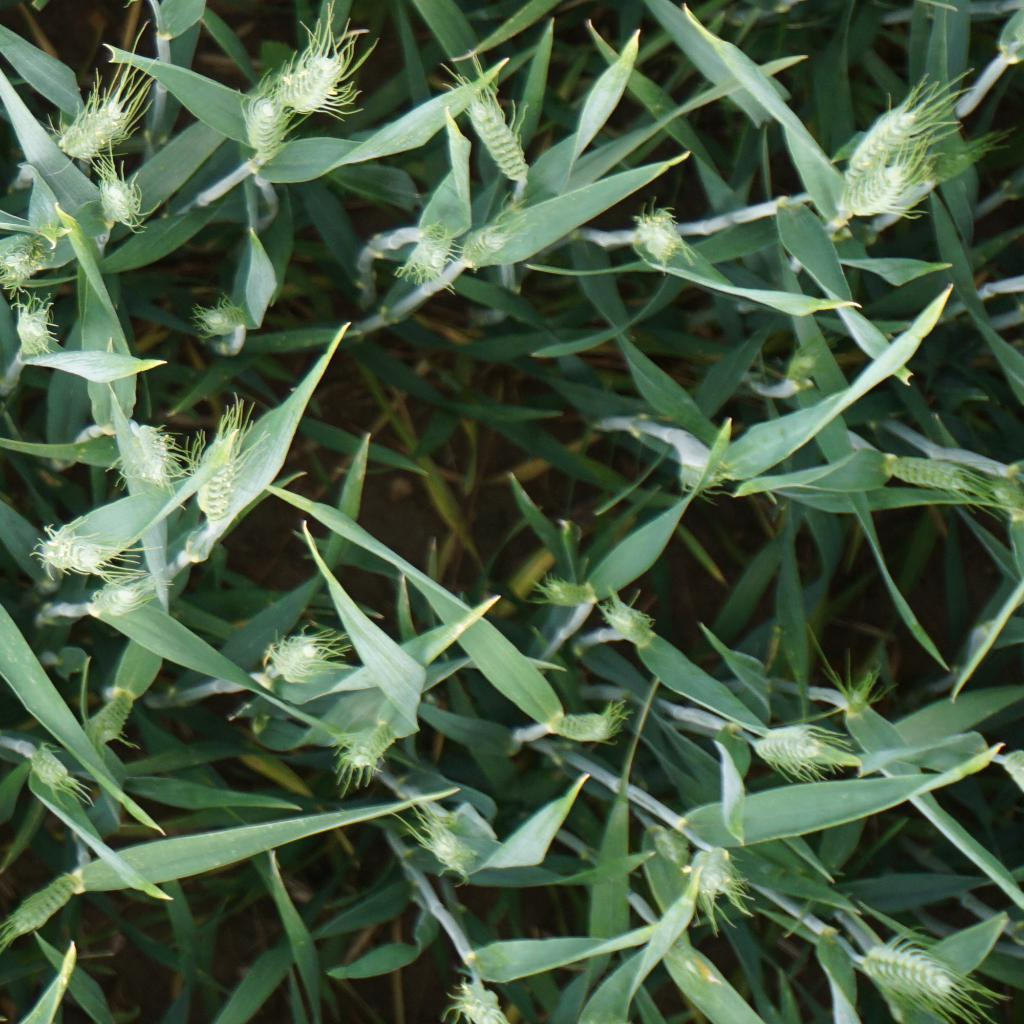0-0: (837, 65, 972, 224), (415, 50, 550, 197), (50, 48, 174, 165), (878, 120, 1019, 215), (847, 913, 975, 1013), (0, 866, 98, 969), (74, 140, 158, 252), (10, 733, 118, 815), (52, 683, 178, 750), (268, 29, 355, 123), (98, 408, 179, 506), (10, 521, 141, 581), (751, 724, 875, 785), (841, 150, 950, 218), (541, 680, 638, 754), (566, 589, 688, 645), (89, 555, 175, 631), (242, 67, 303, 170), (460, 205, 551, 274), (879, 455, 1008, 503), (687, 840, 755, 928), (328, 707, 400, 790), (400, 820, 501, 877), (630, 202, 702, 274), (397, 222, 474, 288), (196, 409, 240, 524), (0, 221, 61, 297), (0, 296, 69, 360), (263, 632, 346, 685), (531, 560, 609, 613), (440, 969, 509, 1024), (194, 294, 259, 336)
